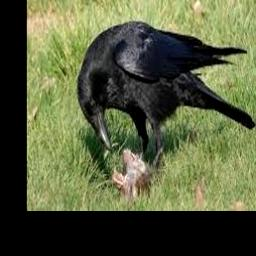Crow: (78, 21, 255, 171)
